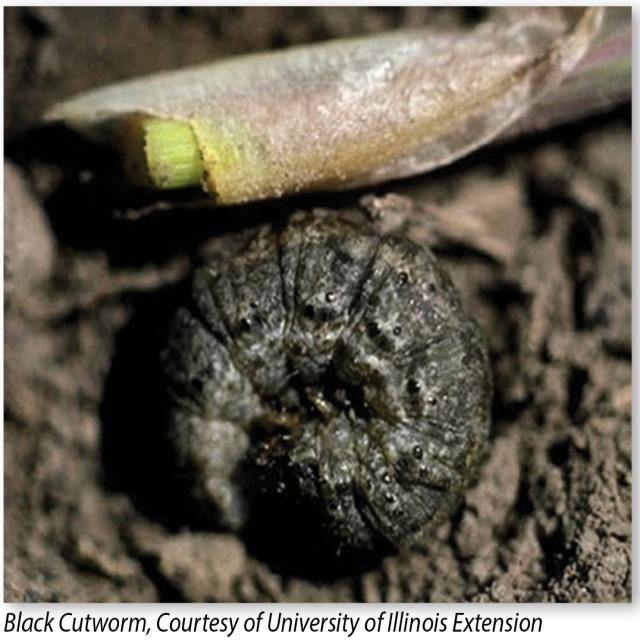worm: (160, 201, 496, 563)
